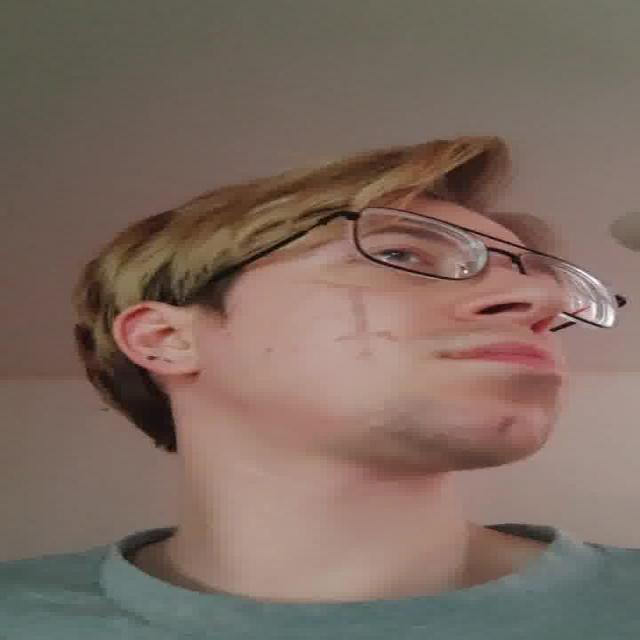earlobe: (130, 353, 202, 377)
eye: (346, 242, 436, 269)
nose: (462, 306, 556, 348)
wholeear: (110, 299, 202, 376)
